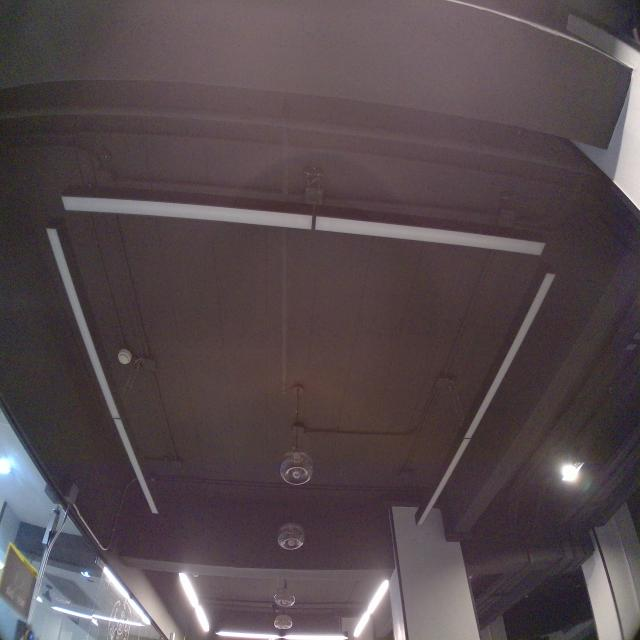lamp2_off: (410, 268, 567, 532), (53, 185, 553, 264), (39, 220, 168, 522)
